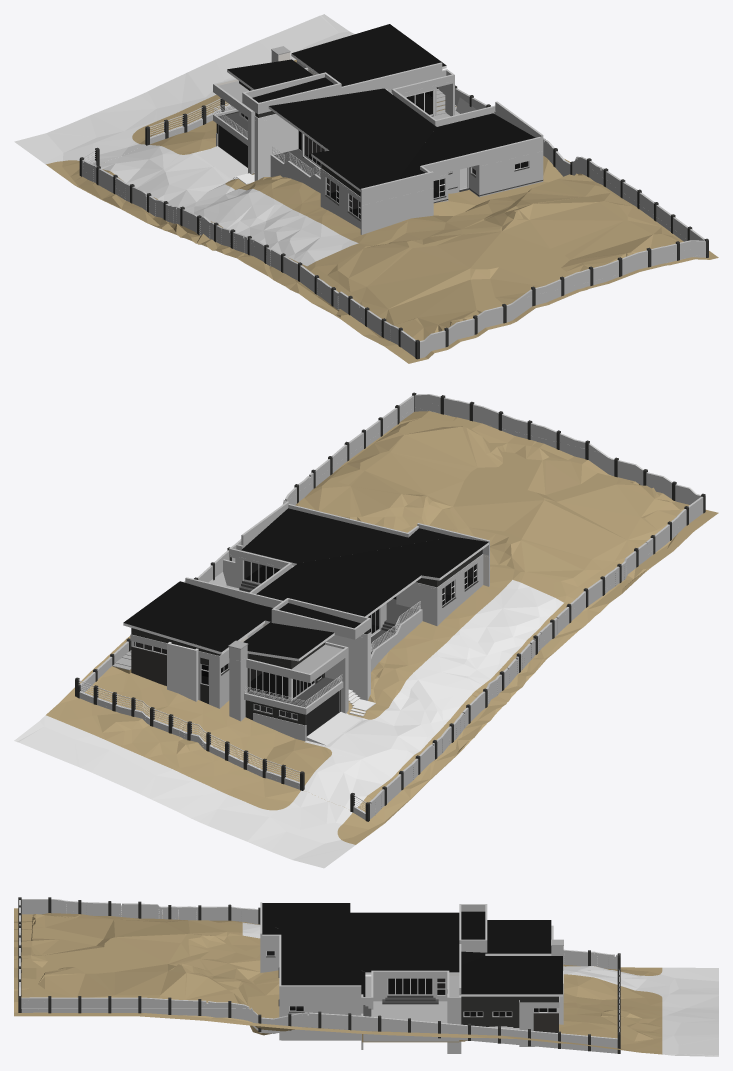
Rendered from Edwards house.glb.
3 views of the same model, one above another, from view 1: azimuth 30°, elevation 25°; view 2: azimuth 150°, elevation 25°; view 3: azimuth 270°, elevation 25° (orthographic). The views are drawn at different scales.
Visible parts, largest first — view 1: Site-Grass, main Roofing - Sheets, main Plaster(1), main Driveway.001, main Plaster(1).001, main Road.001, main Plaster(2), main Frame.002, main Plaster(3), main Glass, main Ceramic Tile, main Plaster(2).001 (+2 smaller); view 2: Site-Grass, main Roofing - Sheets, main Plaster(1), main Driveway.001, main Road.001, main Plaster(1).001, main Plaster(2), main Frame.002, main Plaster(3), main Ceramic Tile, main Glass, main Plaster(2).001 (+3 smaller); view 3: Site-Grass, main Roofing - Sheets, main Plaster(1), main Plaster(1).001, main Road.001, main Plaster(2), main Ceramic Tile, main Pavers, main Glass, main Driveway.001, main Plaster(2).001, main Frame.002 (+3 smaller).
Part boxes in pixels (box(x1,y1,x2,y2)): Site-Grass: box(46, 59, 718, 363); main Roofing - Sheets: box(227, 24, 535, 189); main Plaster(1): box(82, 60, 705, 358); main Driveway.001: box(99, 145, 358, 266); main Plaster(1).001: box(242, 51, 705, 298); main Road.001: box(14, 14, 354, 164); main Plaster(2): box(79, 62, 708, 359); main Frame.002: box(83, 89, 528, 219); main Plaster(3): box(254, 90, 387, 180); main Glass: box(241, 91, 528, 218); main Ceramic Tile: box(219, 97, 543, 215); main Plaster(2).001: box(255, 111, 708, 295); Site-Grass: box(46, 411, 718, 844); main Roofing - Sheets: box(123, 508, 488, 658); main Plaster(1): box(79, 407, 703, 819); main Driveway.001: box(304, 580, 563, 809); main Road.001: box(14, 715, 355, 868); main Plaster(1).001: box(183, 394, 601, 661); main Plaster(2): box(75, 407, 705, 821); main Frame.002: box(78, 560, 477, 812); main Plaster(3): box(167, 635, 370, 701); main Ceramic Tile: box(202, 566, 475, 707); main Glass: box(133, 560, 476, 719); main Plaster(2).001: box(131, 392, 589, 664); Site-Grass: box(14, 908, 662, 1054); main Roofing - Sheets: box(262, 903, 562, 996); main Plaster(1): box(19, 899, 617, 1053); main Plaster(1).001: box(19, 902, 563, 1008); main Road.001: box(620, 967, 718, 1056); main Plaster(2): box(18, 897, 620, 1053); main Ceramic Tile: box(290, 979, 555, 1016); main Pavers: box(371, 1001, 554, 1032); main Glass: box(267, 951, 556, 1016); main Driveway.001: box(242, 922, 617, 984); main Plaster(2).001: box(18, 925, 558, 1008); main Frame.002: box(266, 951, 619, 1031).
Size of the model in its own units: 31.98 by 11.84 by 70.45.
